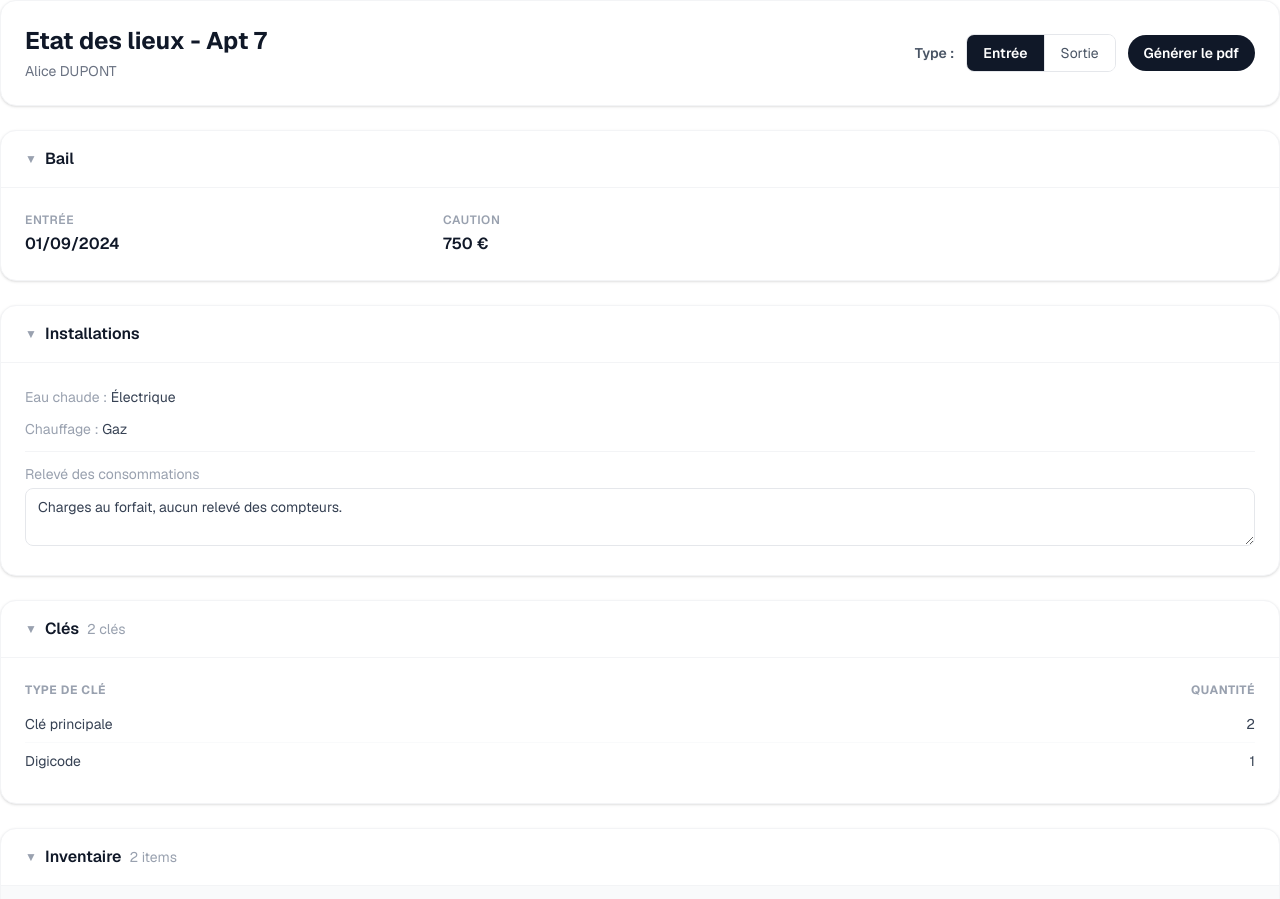
Test case: EdlFigeView — blocs collapsibles › replie le bloc Installations au clic sur son en-tête
The width and height of the screenshot is (1280, 899).
expect the text "Électrique" is shown: met, box [111,388,176,406]
Click the button "▼ Installations" at (82, 334), box [25,322,140,346]
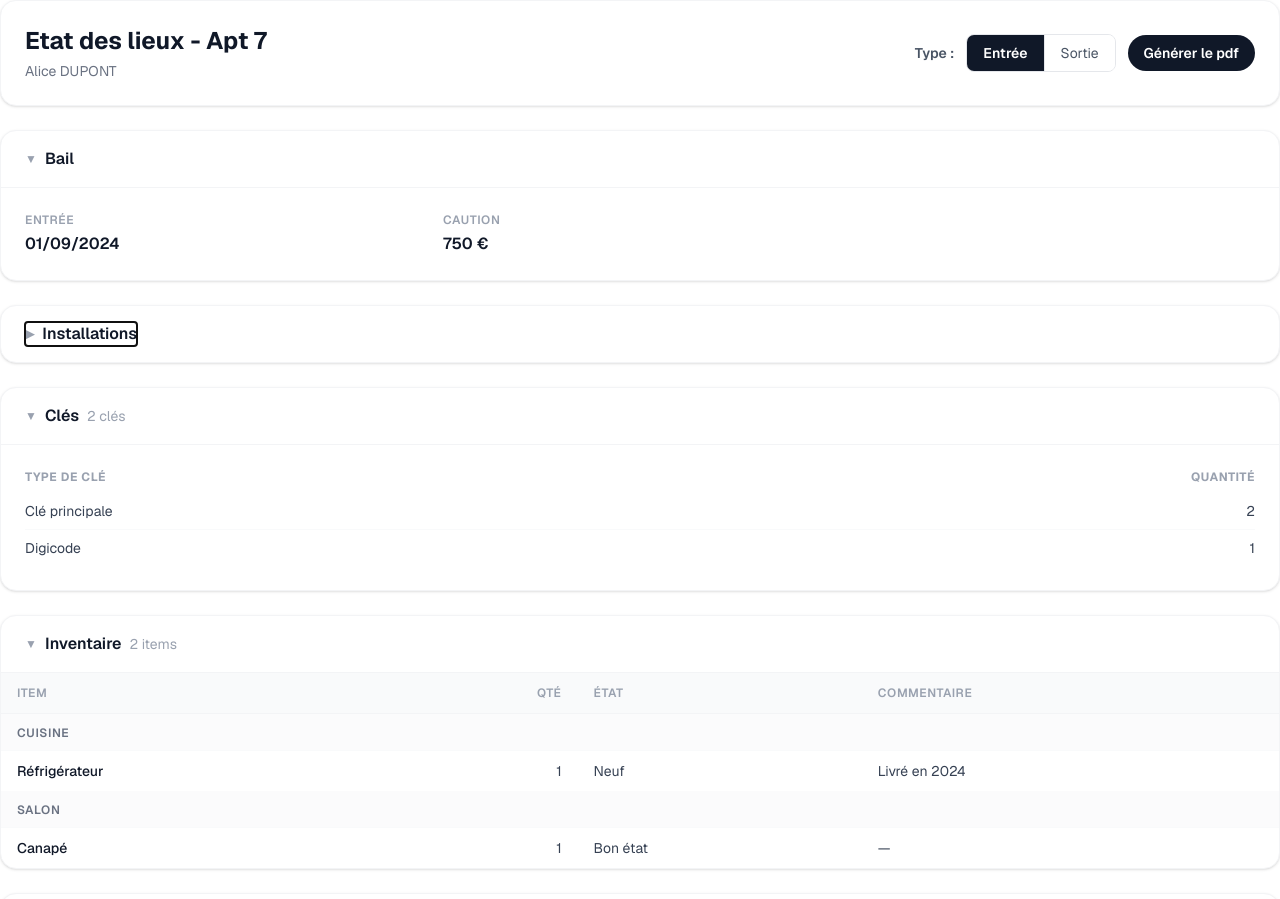
expect the text "Électrique" is gone: met
